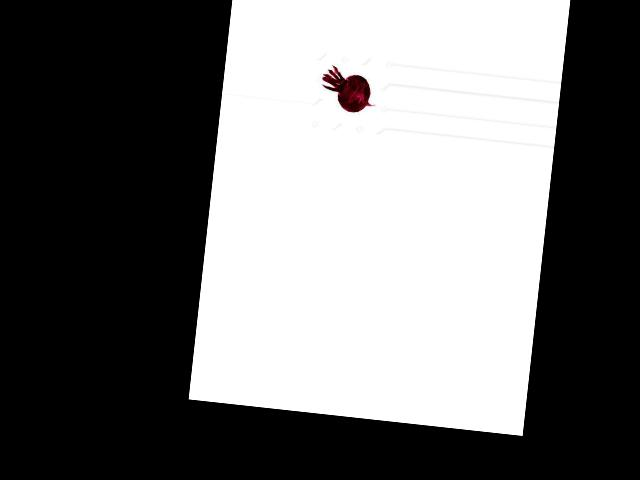beet: (319, 65, 379, 115)
